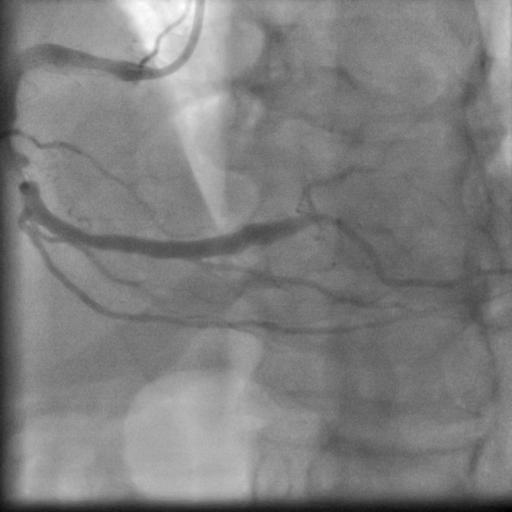Stenosis: (2, 142, 38, 195)
